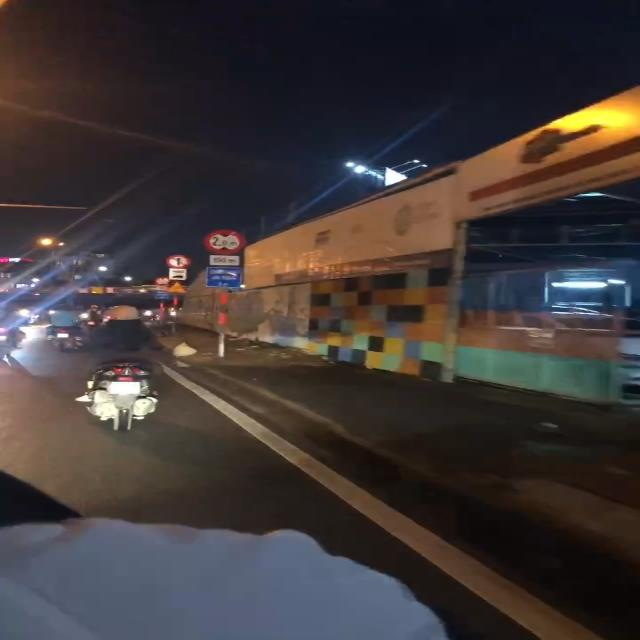Bien bao cam di thang: (164, 254, 195, 268)
Bien bao han che chieu cao: (201, 226, 247, 256)
